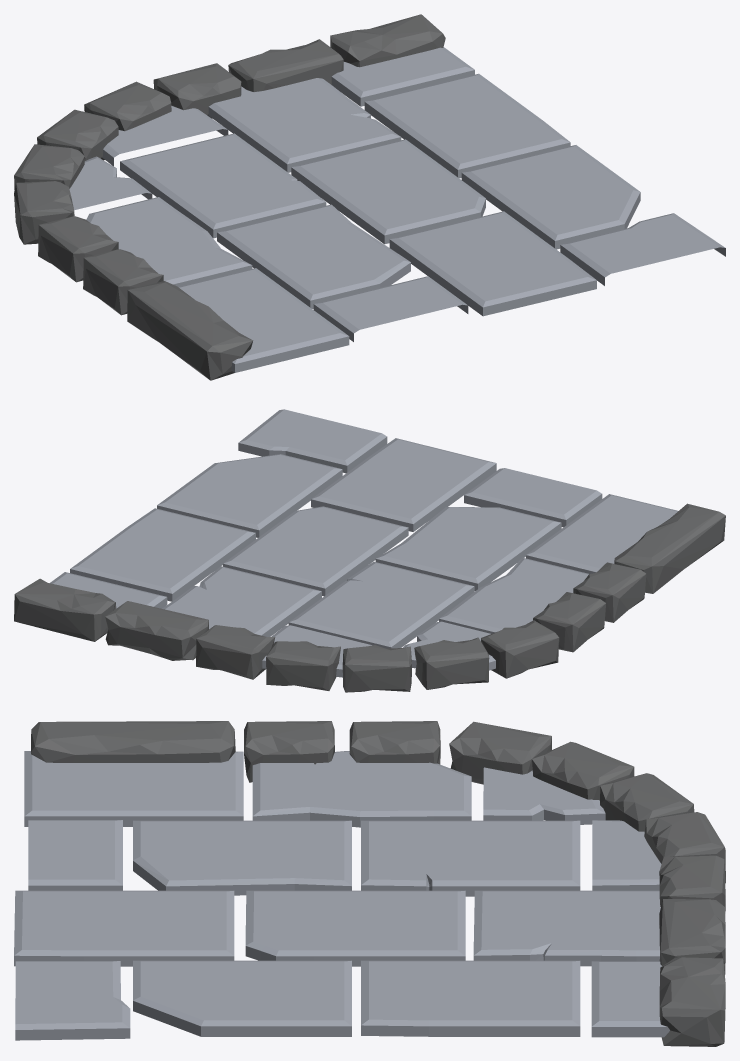
The model's file is SM_street_curve_01.fbx.
3 renders of one model, top to bottom at view 1: azimuth 30°, elevation 25°; view 2: azimuth 150°, elevation 25°; view 3: azimuth 270°, elevation 25°, orthographic. The views are drawn at different scales.
Visible parts, largest first — view 1: street_curve_01; view 2: street_curve_01; view 3: street_curve_01.
Boxes of the visible parts, x1,y1,x2,y2 form: street_curve_01: [14, 14, 725, 380]; street_curve_01: [14, 409, 725, 692]; street_curve_01: [14, 721, 725, 1046].
Bounding box in the file's own units: 313 × 20.74 × 322.
